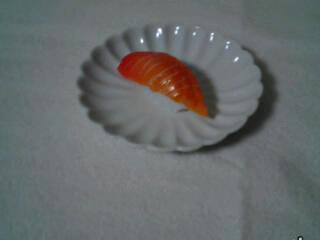002_classes: (117, 46, 216, 119)
